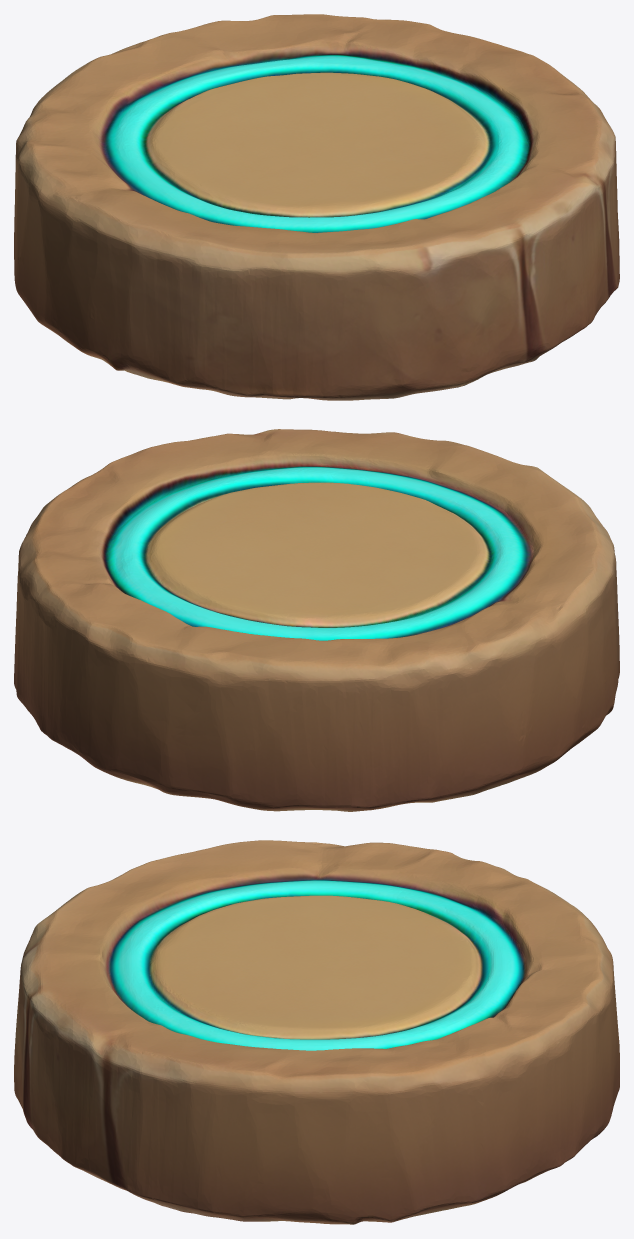
File: spawn_pad.glb
The picture shows the model from 3 angles, top to bottom: view 1: azimuth 30°, elevation 25°; view 2: azimuth 150°, elevation 25°; view 3: azimuth 270°, elevation 25°; orthographic projection.
Parts seen in each view (by area): view 1: tmpa2a326o5.ply; view 2: tmpa2a326o5.ply; view 3: tmpa2a326o5.ply.
Part boxes in pixels (box(x1,y1,x2,y2)): tmpa2a326o5.ply: box(14, 14, 619, 400); tmpa2a326o5.ply: box(14, 429, 619, 811); tmpa2a326o5.ply: box(14, 840, 619, 1224).
Size of the model in its own units: 1.99 by 0.5454 by 1.99.
1 material, 1 textured.
